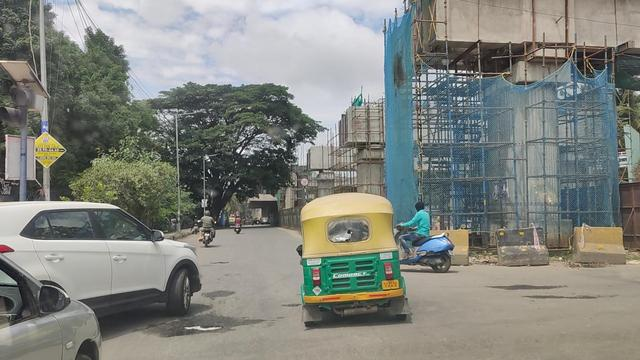LMV: (0, 205, 190, 309), (295, 192, 405, 336), (412, 199, 457, 275)
RoadDamages: (181, 312, 233, 340)
